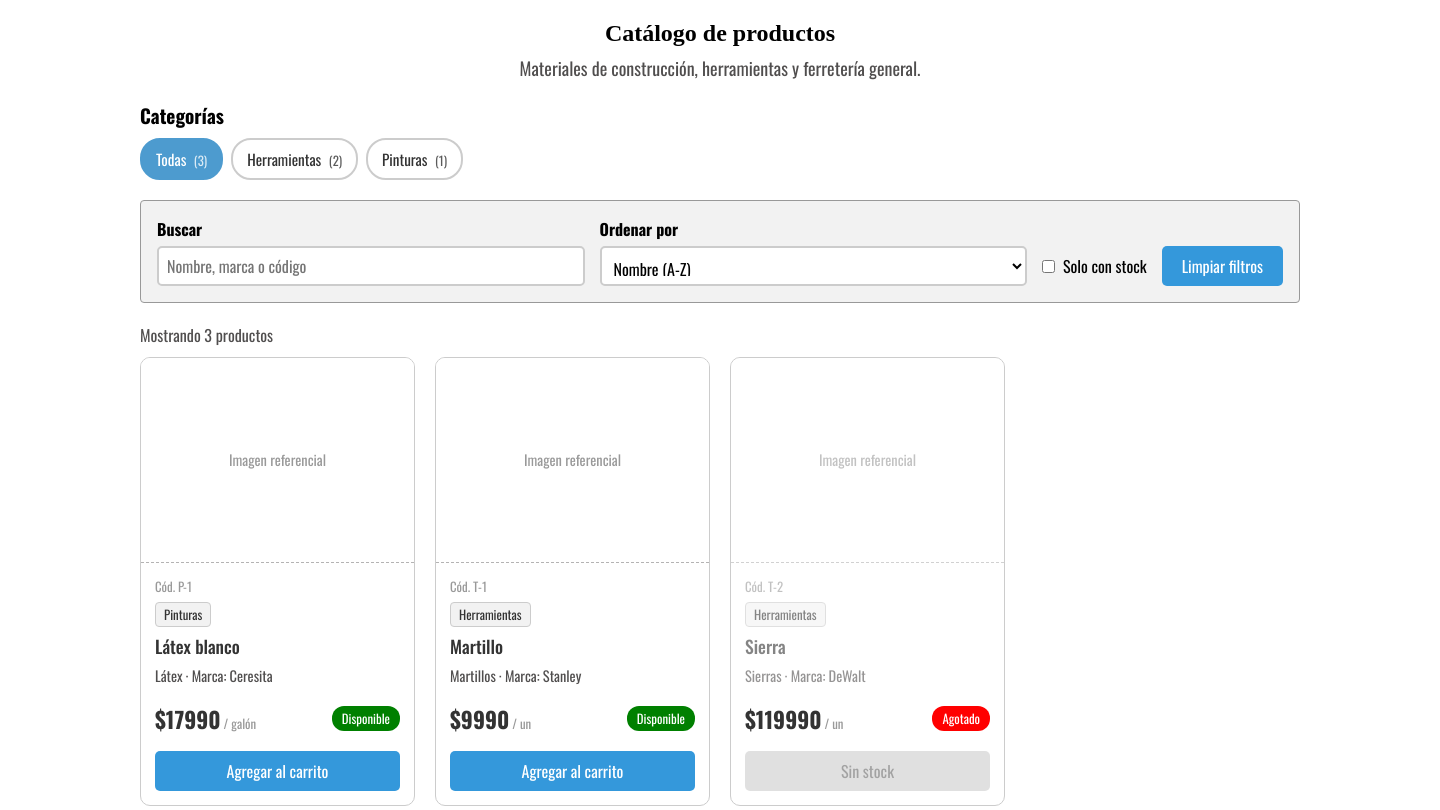
Test: Catalogo › 'Solo con stock' oculta los productos agotados
Click the checkbox labelled "Solo con stock" at (1048, 266), box [1042,260,1055,272]
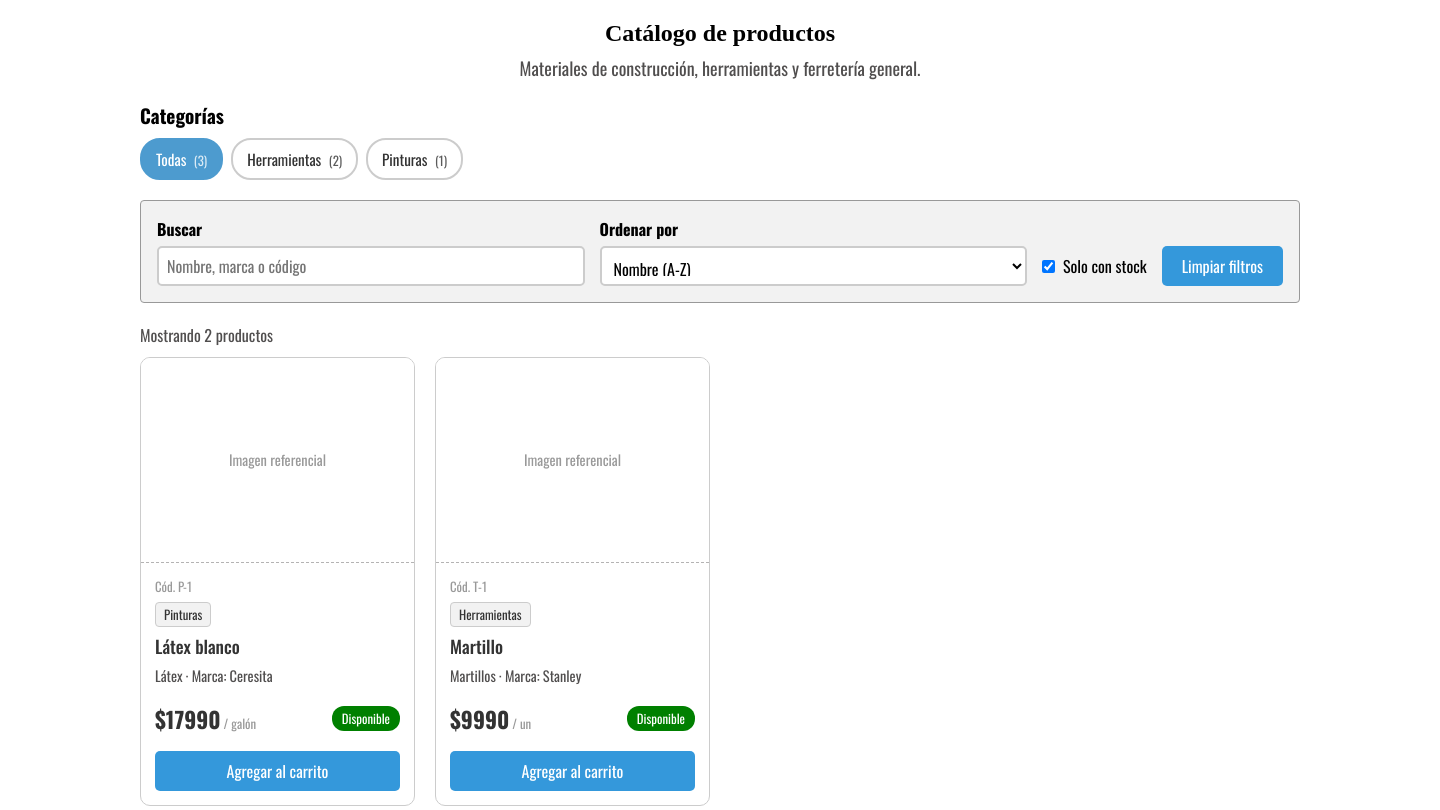
Now the heading "Sierra" is gone
Now the text "Mostrando 2 productos" is shown, box [140,323,273,347]
